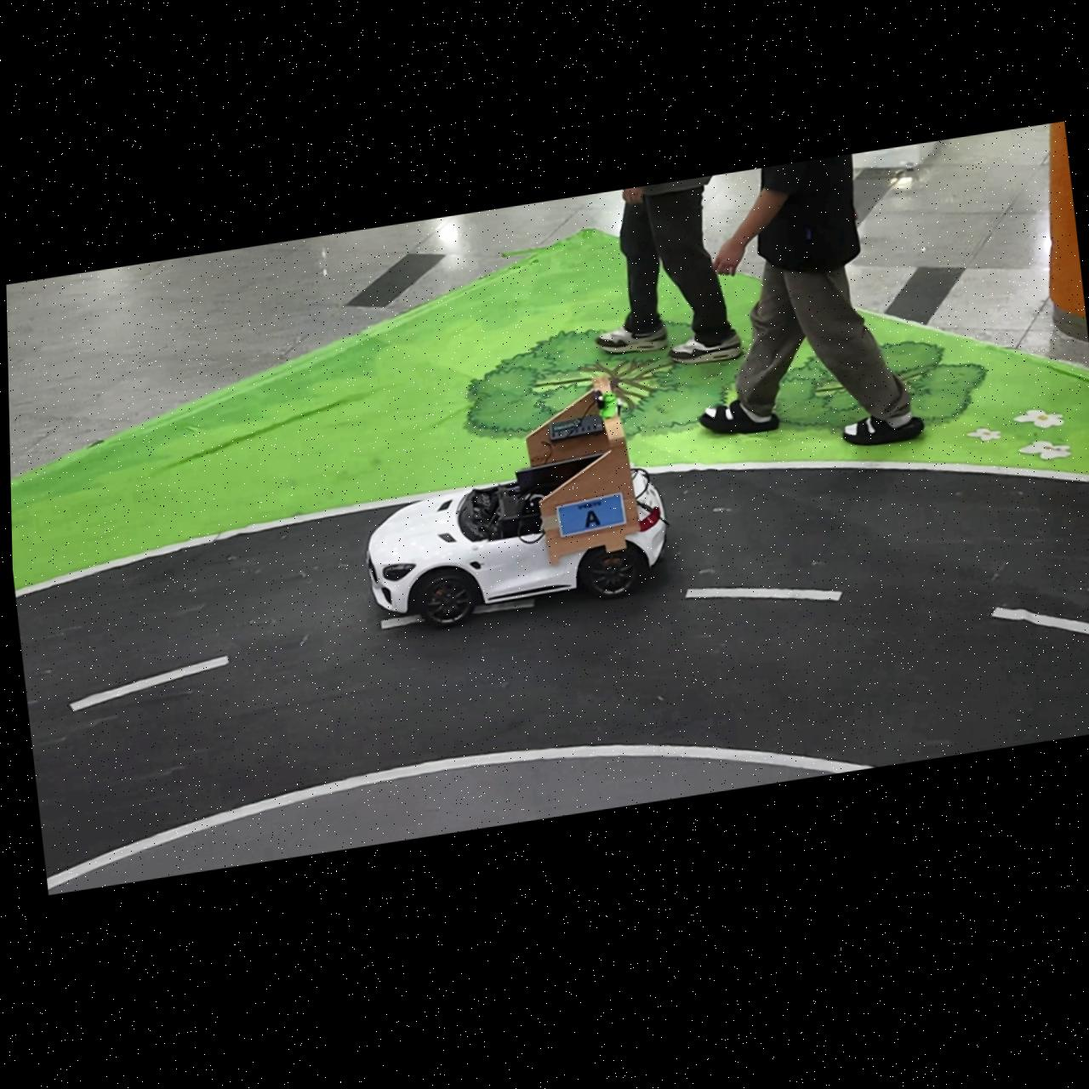broken_line: (69, 656, 228, 711), (991, 607, 1089, 635), (686, 587, 842, 601), (475, 599, 535, 614), (381, 616, 423, 629)
